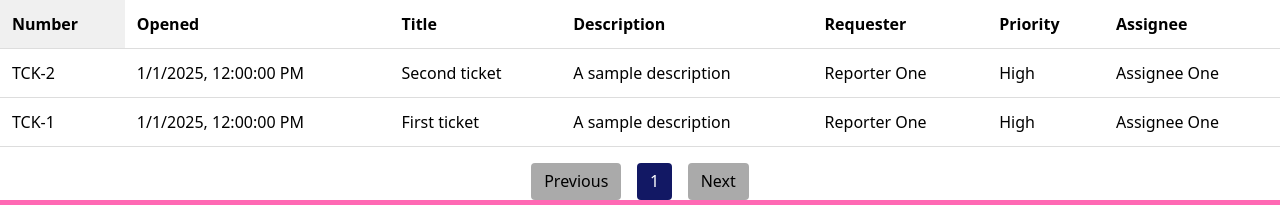
TicketTable.vue › sorts by id when Number header is clicked and shows sort arrow
Expected: the cell "TCK-2" is shown, x1=0 y1=48 x2=125 y2=98
Expected: the cell "TCK-1" is shown, x1=0 y1=98 x2=125 y2=146
Click the column heading "Number": (62, 24) x1=0 y1=0 x2=125 y2=48
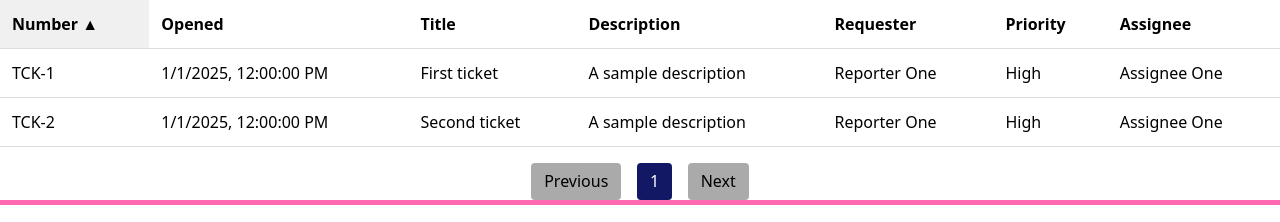
Expected: the cell "TCK-1" is shown, x1=0 y1=48 x2=149 y2=98
Expected: the column heading "Number ▲" is shown
Click the column heading "Number ▲": (75, 24) x1=0 y1=0 x2=149 y2=48
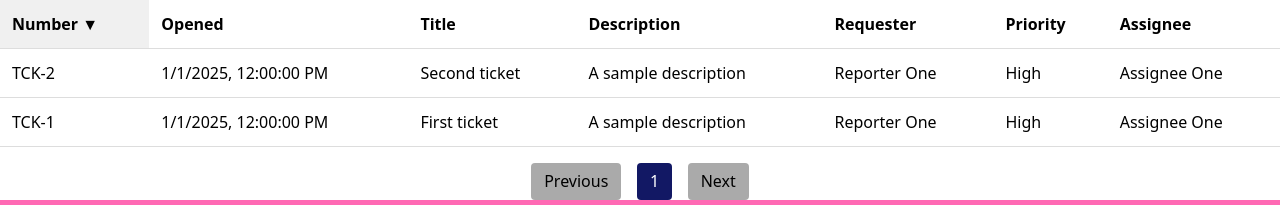
Expected: the cell "TCK-2" is shown, x1=0 y1=48 x2=149 y2=98
Expected: the column heading "Number ▼" is shown, x1=0 y1=0 x2=149 y2=48
